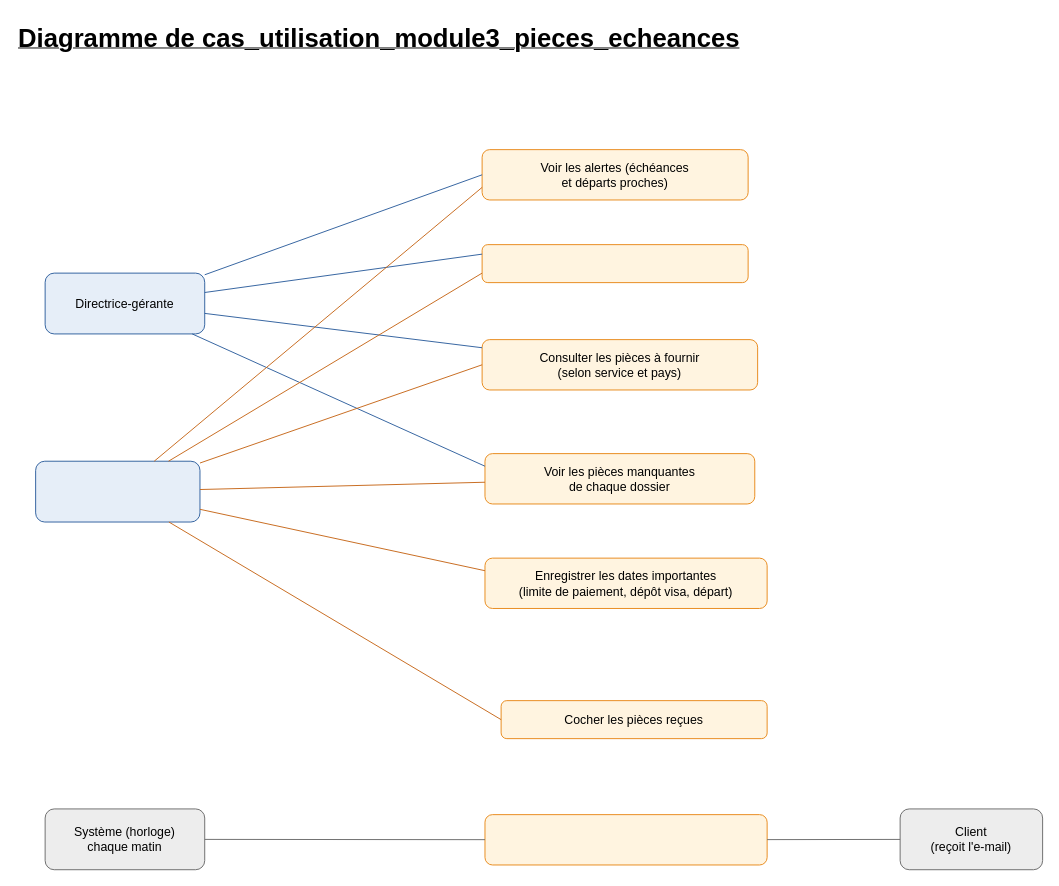
This 1059x886 diagram has some shape labels left out. Each missing label, with the centre of its shape:
"Agent de réservation et d'accueil (×2)" belongs at (x=117, y=491).
"Envoyer un rappel de départ automatique (e-mail à J-7, J-3 et J-1)" belongs at (x=625, y=839).
"Voir les relances clients à faire" belongs at (x=614, y=263).
